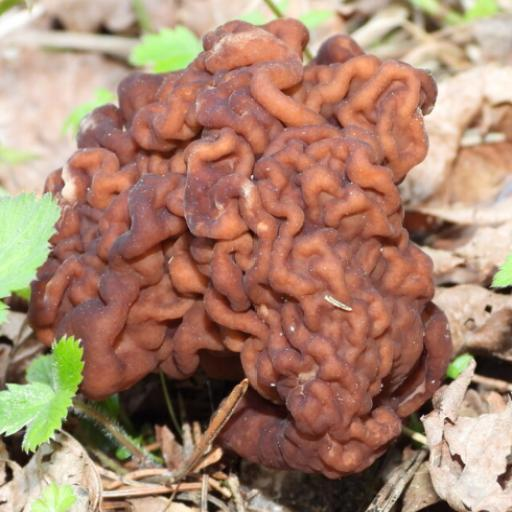mushroom: (39, 18, 455, 481)
